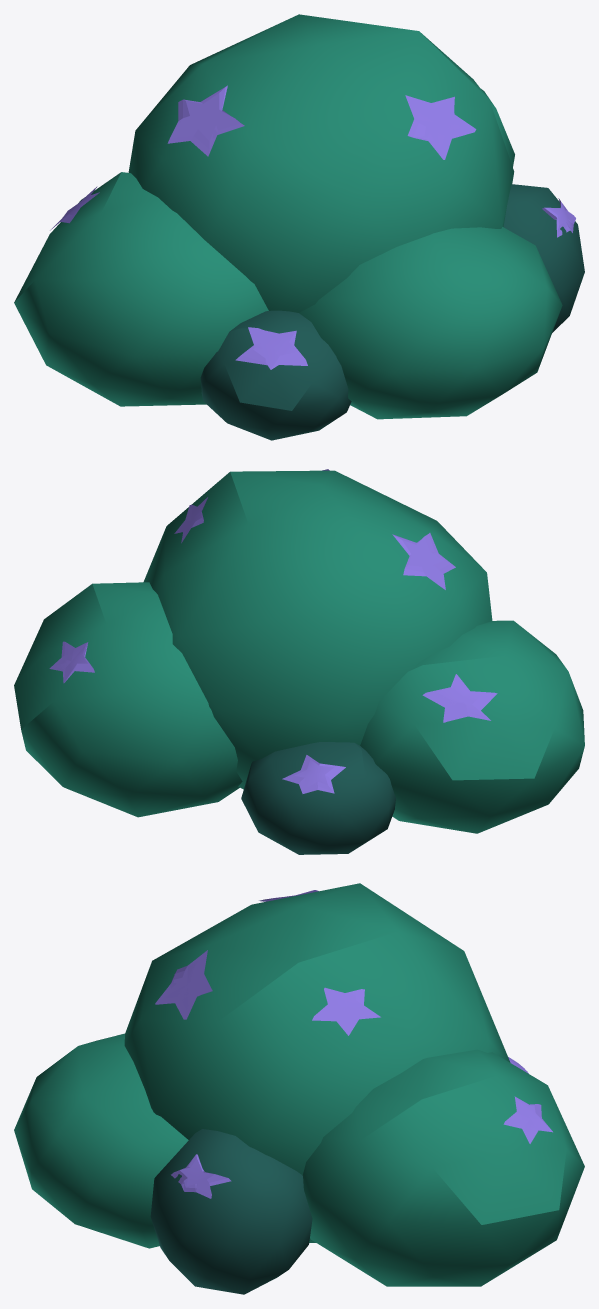
The model's file is Bush_Purple1.fbx.
The picture shows the model from 3 angles, top to bottom: view 1: azimuth 30°, elevation 25°; view 2: azimuth 150°, elevation 25°; view 3: azimuth 270°, elevation 25°; orthographic projection. The views are drawn at different scales.
Parts seen in each view (by area): view 1: Bush.003, Star.017, Star.022, Star.021, Star.024; view 2: Bush.003, Star.020, Star.017, Star.019, Star.018, Star.023; view 3: Bush.003, Star.022, Star.023, Star.024, Star.018.
Part boxes in pixels (bbox=[...]): Bush.003: bbox=[14, 14, 584, 440]; Star.017: bbox=[167, 85, 244, 156]; Star.022: bbox=[405, 95, 476, 159]; Star.021: bbox=[235, 327, 307, 369]; Star.024: bbox=[542, 198, 575, 237]; Bush.003: bbox=[14, 470, 584, 854]; Star.020: bbox=[422, 674, 497, 722]; Star.017: bbox=[392, 533, 455, 589]; Star.019: bbox=[282, 755, 345, 793]; Star.018: bbox=[49, 641, 94, 683]; Star.023: bbox=[174, 497, 207, 543]; Bush.003: bbox=[14, 883, 584, 1294]; Star.022: bbox=[155, 950, 212, 1019]; Star.023: bbox=[312, 987, 380, 1035]; Star.024: bbox=[171, 1154, 231, 1198]; Star.018: bbox=[503, 1096, 552, 1143].
Size of the model in its own units: 234 by 130 by 225.
